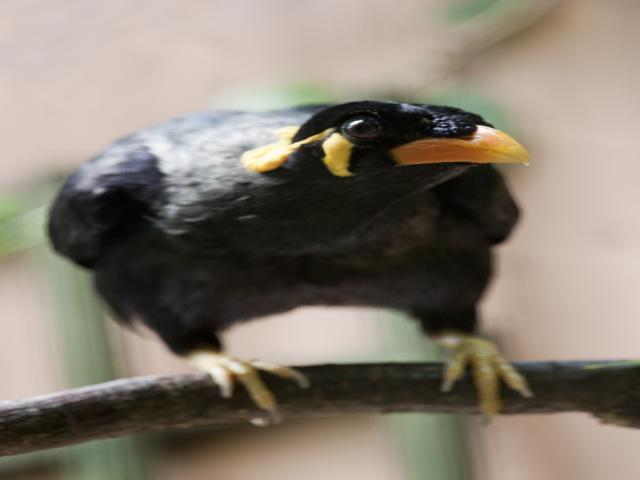Bird: (42, 100, 537, 429)
